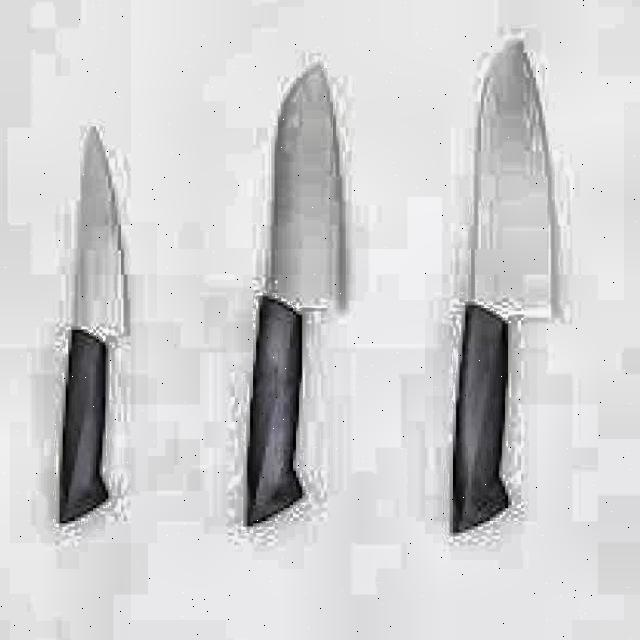knife: (451, 38, 558, 540), (243, 58, 353, 530), (52, 115, 130, 529)
